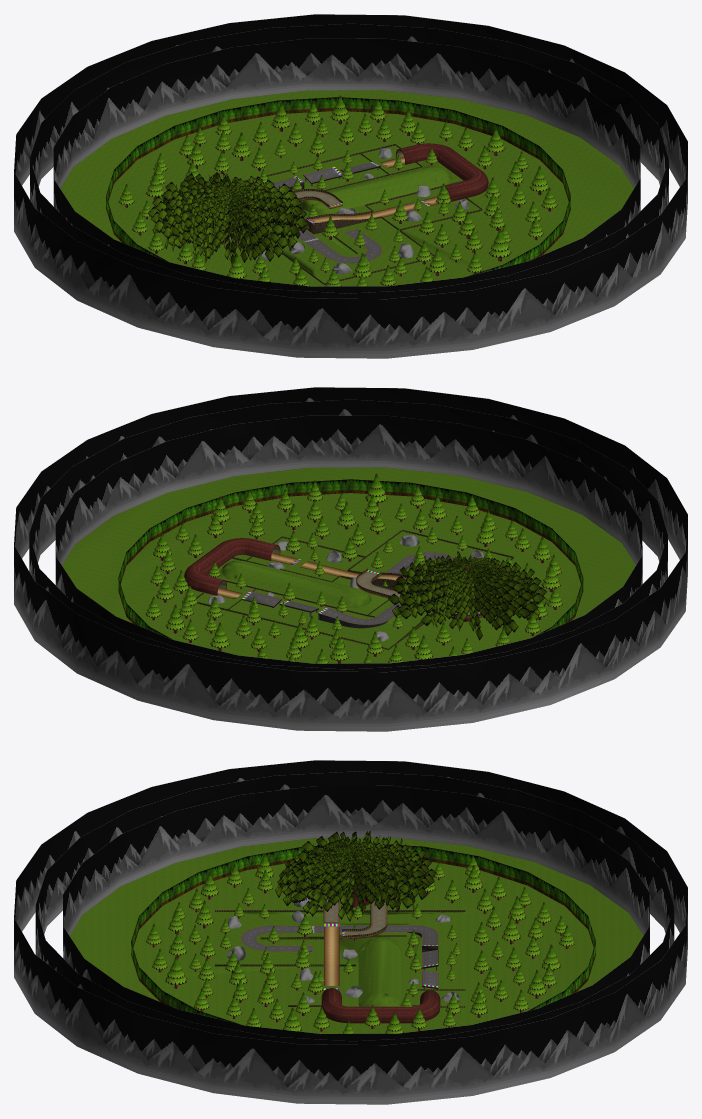
3 views of the same model, one above another, from view 1: azimuth 30°, elevation 25°; view 2: azimuth 150°, elevation 25°; view 3: azimuth 270°, elevation 25° (orthographic).
Parts seen in each view (by area): view 1: Untitled-SKP--Material9.043, Untitled-SKP--Material9.045, Untitled-SKP--Material9.028, Untitled-SKP--Material9.029, Untitled-SKP--Material9.033, Untitled-SKP--Material9.032, Untitled-SKP--Material9.040, Untitled-SKP--Material9.025, Untitled-SKP--Material9.038, Untitled-SKP--Material9.041, Untitled-SKP--Material9.036; view 2: Untitled-SKP--Material9.043, Untitled-SKP--Material9.045, Untitled-SKP--Material9.028, Untitled-SKP--Material9.029, Untitled-SKP--Material9.033, Untitled-SKP--Material9.032, Untitled-SKP--Material9.040, Untitled-SKP--Material9.025, Untitled-SKP--Material9.038, Untitled-SKP--Material9.041, Untitled-SKP--Material9.036; view 3: Untitled-SKP--Material9.043, Untitled-SKP--Material9.045, Untitled-SKP--Material9.028, Untitled-SKP--Material9.029, Untitled-SKP--Material9.033, Untitled-SKP--Material9.032, Untitled-SKP--Material9.025, Untitled-SKP--Material9.038, Untitled-SKP--Material9.040, Untitled-SKP--Material9.041, Untitled-SKP--Material9.030, Untitled-SKP--Material9.036.
Part boxes in pixels (bbox=[...]): Untitled-SKP--Material9.043: bbox=[14, 14, 687, 358]; Untitled-SKP--Material9.045: bbox=[60, 90, 634, 286]; Untitled-SKP--Material9.028: bbox=[118, 95, 557, 286]; Untitled-SKP--Material9.029: bbox=[147, 172, 308, 263]; Untitled-SKP--Material9.033: bbox=[106, 97, 570, 275]; Untitled-SKP--Material9.032: bbox=[395, 143, 488, 201]; Untitled-SKP--Material9.040: bbox=[221, 144, 482, 284]; Untitled-SKP--Material9.025: bbox=[274, 162, 382, 263]; Untitled-SKP--Material9.038: bbox=[255, 148, 468, 273]; Untitled-SKP--Material9.041: bbox=[310, 156, 449, 222]; Untitled-SKP--Material9.036: bbox=[125, 120, 550, 286]; Untitled-SKP--Material9.043: bbox=[14, 387, 687, 731]; Untitled-SKP--Material9.045: bbox=[62, 467, 635, 663]; Untitled-SKP--Material9.028: bbox=[145, 473, 562, 663]; Untitled-SKP--Material9.029: bbox=[388, 551, 547, 640]; Untitled-SKP--Material9.033: bbox=[118, 479, 583, 639]; Untitled-SKP--Material9.032: bbox=[184, 538, 479, 621]; Untitled-SKP--Material9.040: bbox=[196, 529, 513, 649]; Untitled-SKP--Material9.025: bbox=[245, 552, 454, 624]; Untitled-SKP--Material9.038: bbox=[207, 535, 483, 641]; Untitled-SKP--Material9.041: bbox=[217, 552, 406, 599]; Untitled-SKP--Material9.036: bbox=[152, 502, 556, 663]; Untitled-SKP--Material9.043: bbox=[14, 760, 687, 1104]; Untitled-SKP--Material9.045: bbox=[69, 837, 643, 1033]; Untitled-SKP--Material9.028: bbox=[146, 846, 574, 1033]; Untitled-SKP--Material9.029: bbox=[275, 831, 436, 921]; Untitled-SKP--Material9.033: bbox=[131, 844, 595, 1024]; Untitled-SKP--Material9.032: bbox=[321, 870, 440, 1023]; Untitled-SKP--Material9.025: bbox=[240, 925, 438, 985]; Untitled-SKP--Material9.038: bbox=[227, 897, 459, 1003]; Untitled-SKP--Material9.040: bbox=[215, 902, 465, 1007]; Untitled-SKP--Material9.041: bbox=[323, 926, 339, 991]; Untitled-SKP--Material9.030: bbox=[324, 893, 387, 935]; Untitled-SKP--Material9.036: bbox=[152, 878, 568, 1031].
Bounding box in the file's own units: 150079 × 16530 × 150079.
22 materials, 21 textured.
